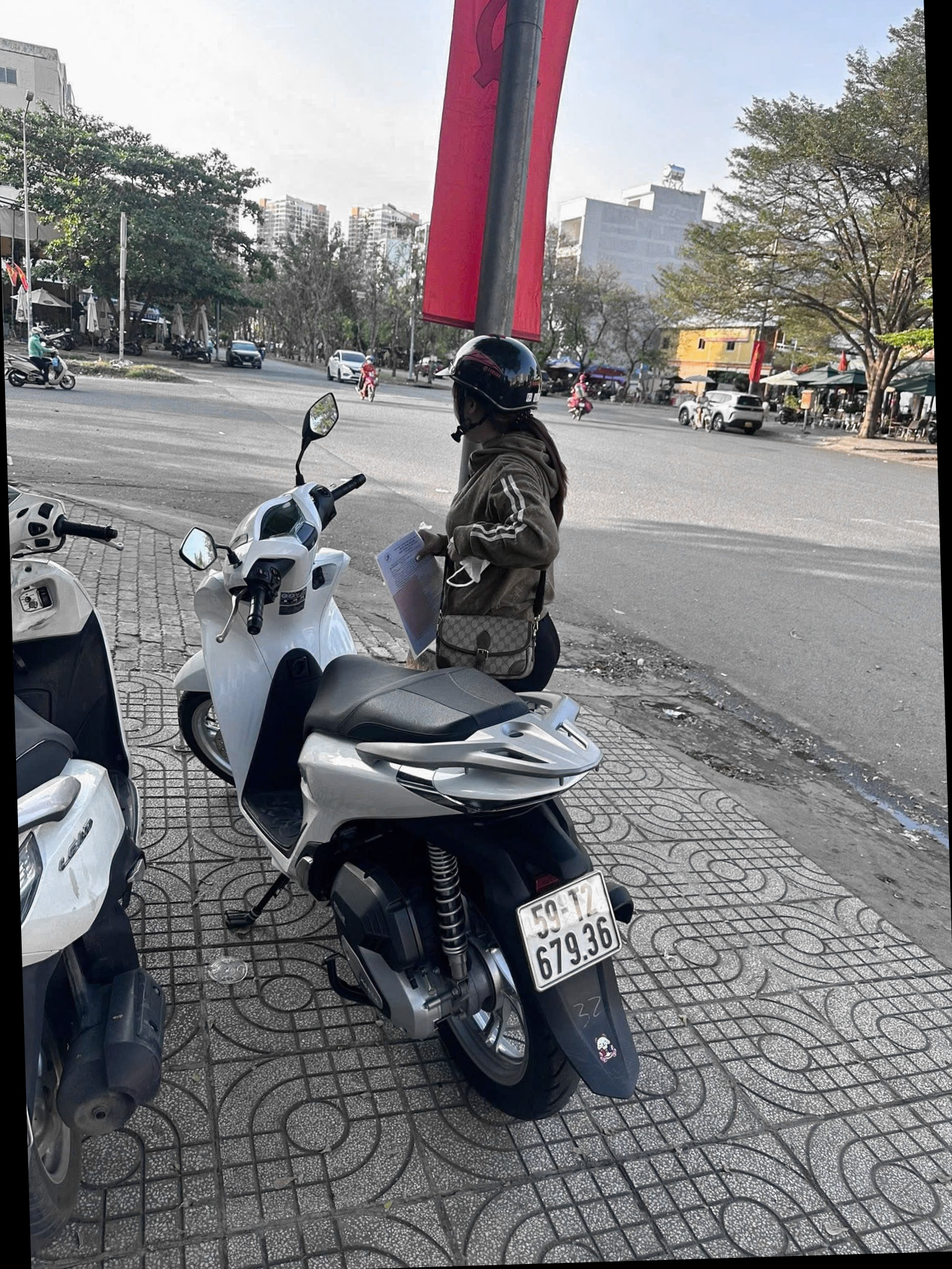Bien-so: (514, 862, 631, 995)
